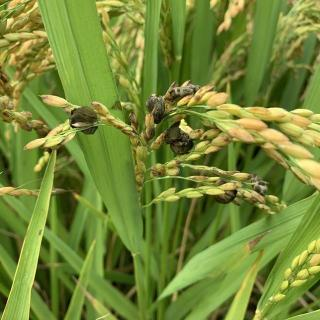Gosong-Palsu: (164, 122, 196, 156), (68, 105, 102, 135), (211, 175, 239, 206), (144, 92, 168, 122), (168, 81, 202, 100), (248, 173, 270, 198)
